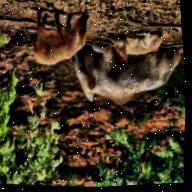boar: (67, 31, 187, 115), (27, 0, 100, 75), (105, 24, 169, 59)
